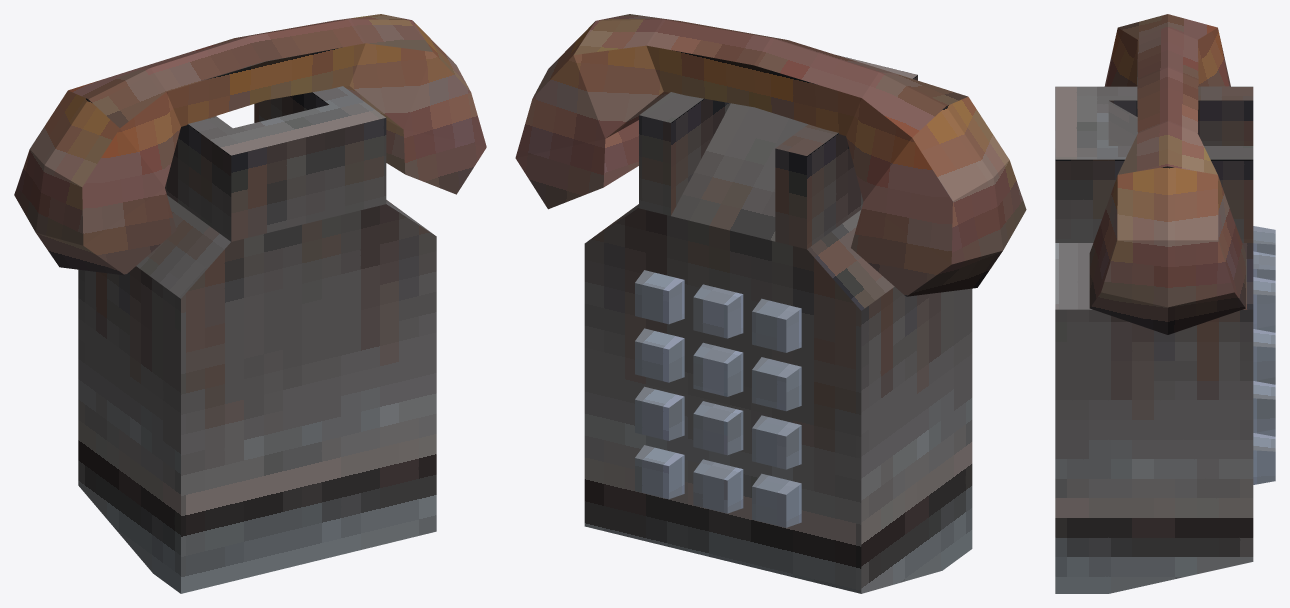
Rendered from phone.glb.
3 views of the same model, side by side, from view 1: azimuth 30°, elevation 25°; view 2: azimuth 150°, elevation 25°; view 3: azimuth 270°, elevation 25° (orthographic). The views are drawn at different scales.
Parts seen in each view (by area): view 1: fone; view 2: fone; view 3: fone.
Boxes of the visible parts, left/top/right/bottom form: fone: left=14, top=14, right=486, bottom=593; fone: left=515, top=14, right=1026, bottom=593; fone: left=1055, top=14, right=1275, bottom=593.
Size of the model in its own units: 0.6922 by 0.7453 by 0.319.
1 material, 1 textured.
